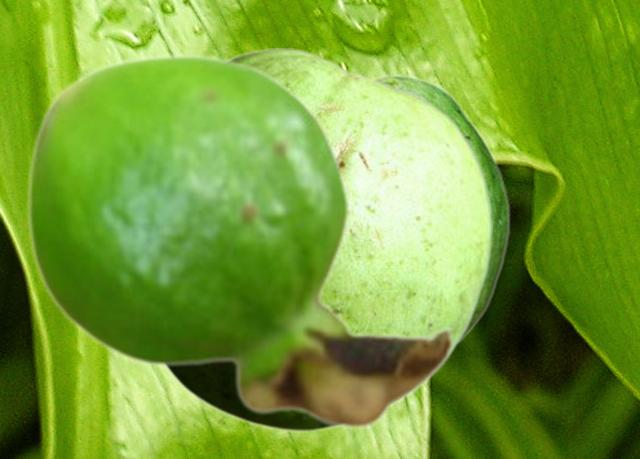guava: (25, 52, 455, 430), (165, 48, 491, 431), (372, 74, 510, 346)
